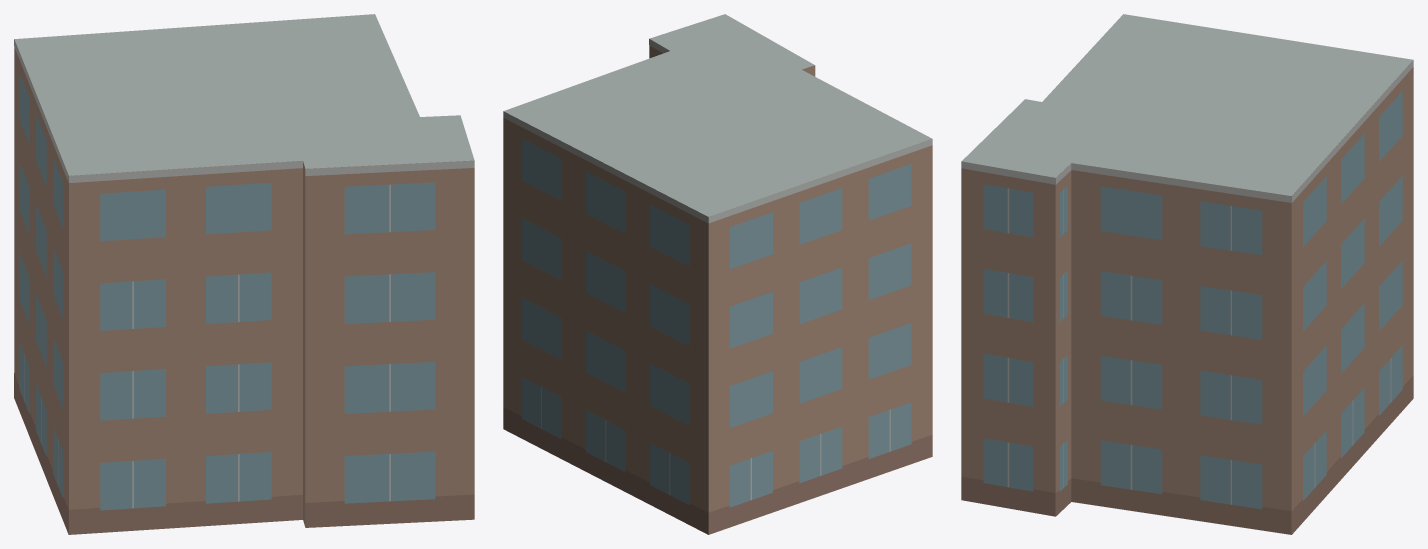
File: survey-upis-32543870.glb
The picture shows the model from 3 angles, left to right: view 1: azimuth 30°, elevation 25°; view 2: azimuth 150°, elevation 25°; view 3: azimuth 270°, elevation 25°; orthographic projection. The views are drawn at different scales.
Parts seen in each view (by area): view 1: survey-upis-32543870.tmp; view 2: survey-upis-32543870.tmp; view 3: survey-upis-32543870.tmp.
Boxes of the visible parts, x1=… form: survey-upis-32543870.tmp: x1=14, y1=14, x2=474, y2=534; survey-upis-32543870.tmp: x1=503, y1=14, x2=932, y2=534; survey-upis-32543870.tmp: x1=961, y1=14, x2=1413, y2=534.
Bounding box in the file's own units: 13.85 × 12 × 14.52.
